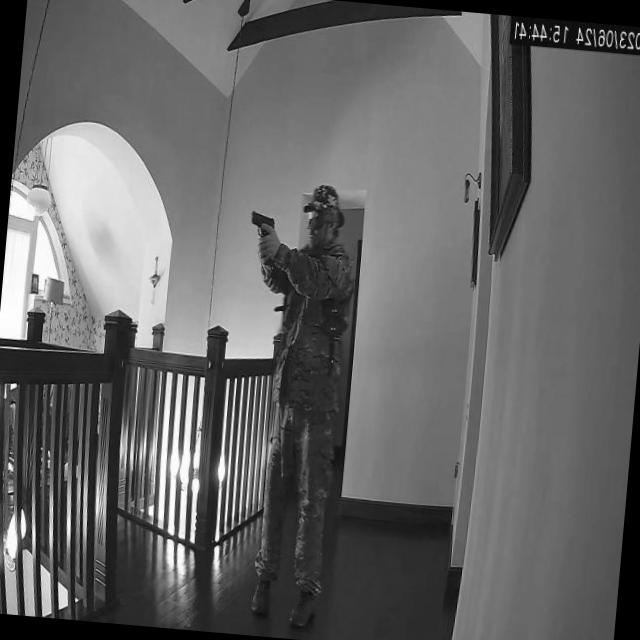gun: (246, 206, 275, 241)
person with a gun: (244, 179, 358, 637)
